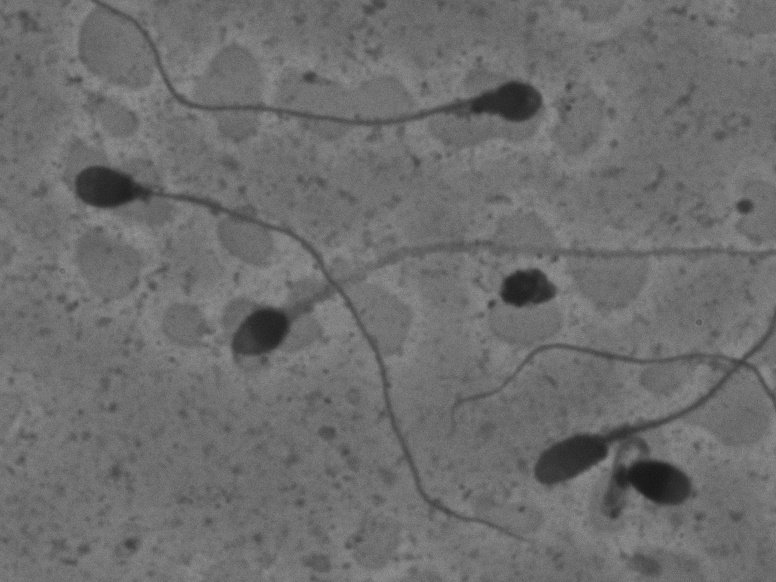Abnormal: (61, 156, 544, 548), (81, 5, 562, 140), (503, 329, 774, 507), (596, 440, 710, 536)
Normal: (198, 227, 769, 382)
